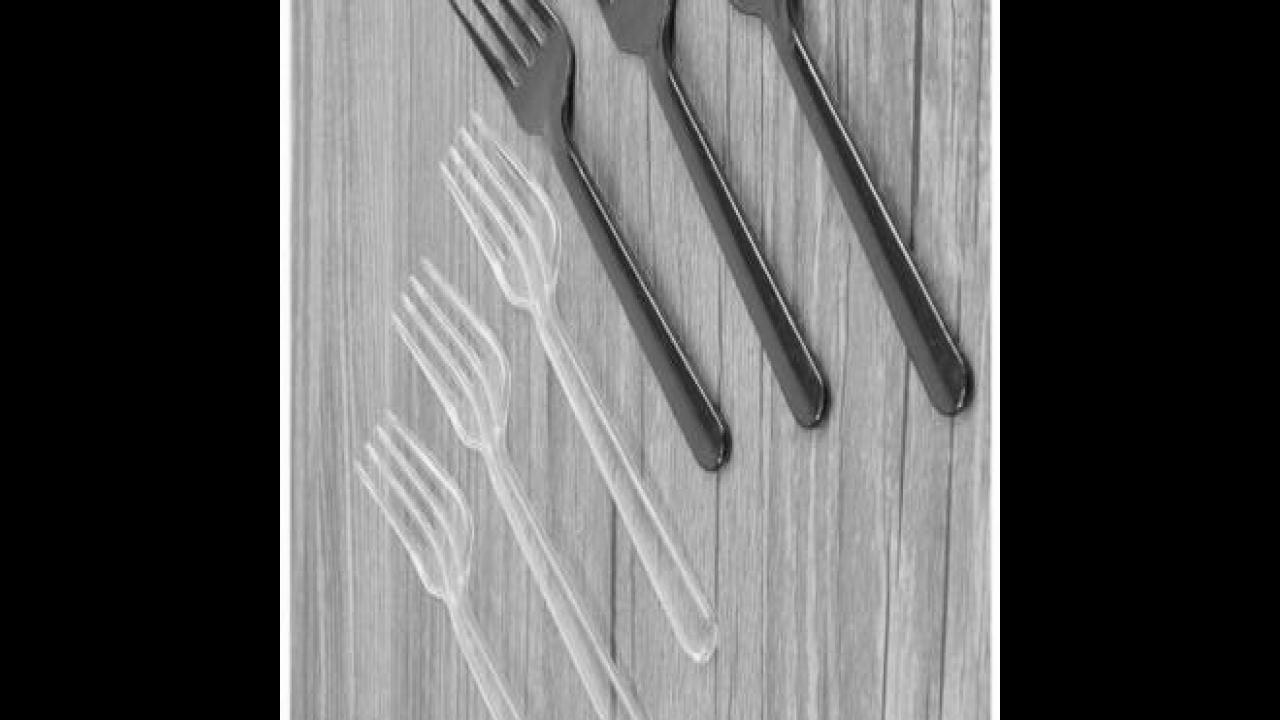fork: (435, 109, 719, 665), (444, 0, 730, 472), (655, 0, 969, 419), (386, 257, 666, 720), (541, 0, 825, 431), (349, 408, 623, 720)
